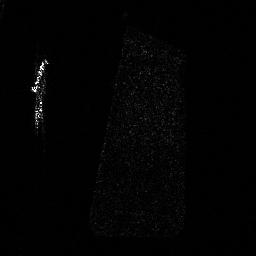ship: (30, 58, 48, 93)
